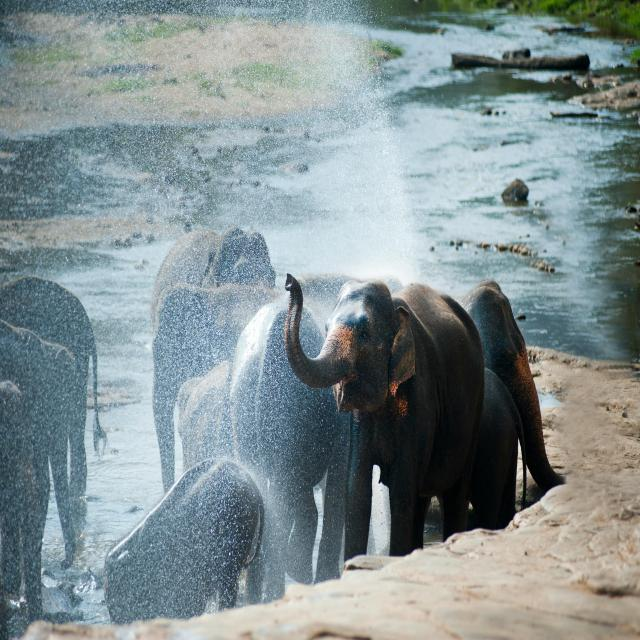Elephant: (284, 271, 486, 561), (178, 299, 352, 603), (152, 283, 330, 562), (1, 274, 104, 559), (105, 456, 265, 628), (0, 318, 77, 633), (150, 230, 276, 420)
